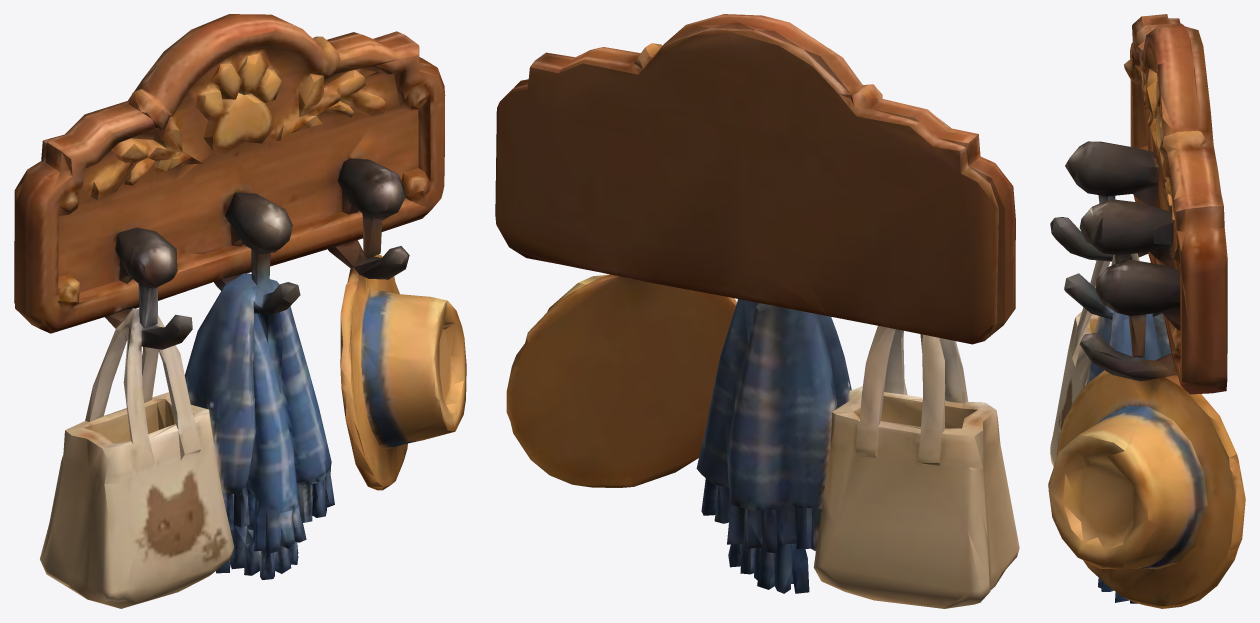
Rendered from wall17.glb.
3 views of the same model, side by side, from view 1: azimuth 30°, elevation 25°; view 2: azimuth 150°, elevation 25°; view 3: azimuth 270°, elevation 25° (orthographic). The views are drawn at different scales.
Size of the model in its own units: 0.2431 by 0.2796 by 0.0907.
1 material, 1 textured.
